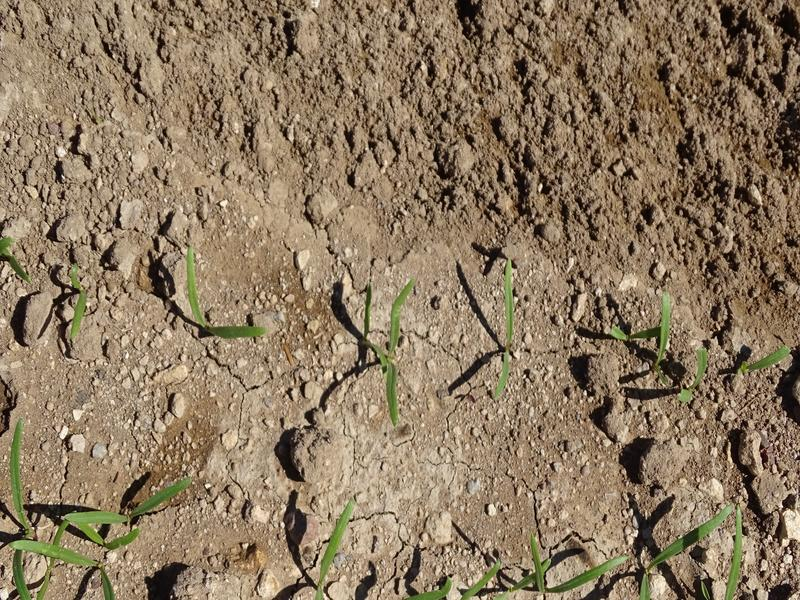Espinaca: (4, 473, 201, 600), (633, 304, 788, 401), (456, 537, 629, 599), (638, 508, 755, 596), (181, 251, 267, 342), (376, 278, 411, 416), (319, 496, 366, 578), (59, 263, 96, 336), (502, 258, 512, 402)
